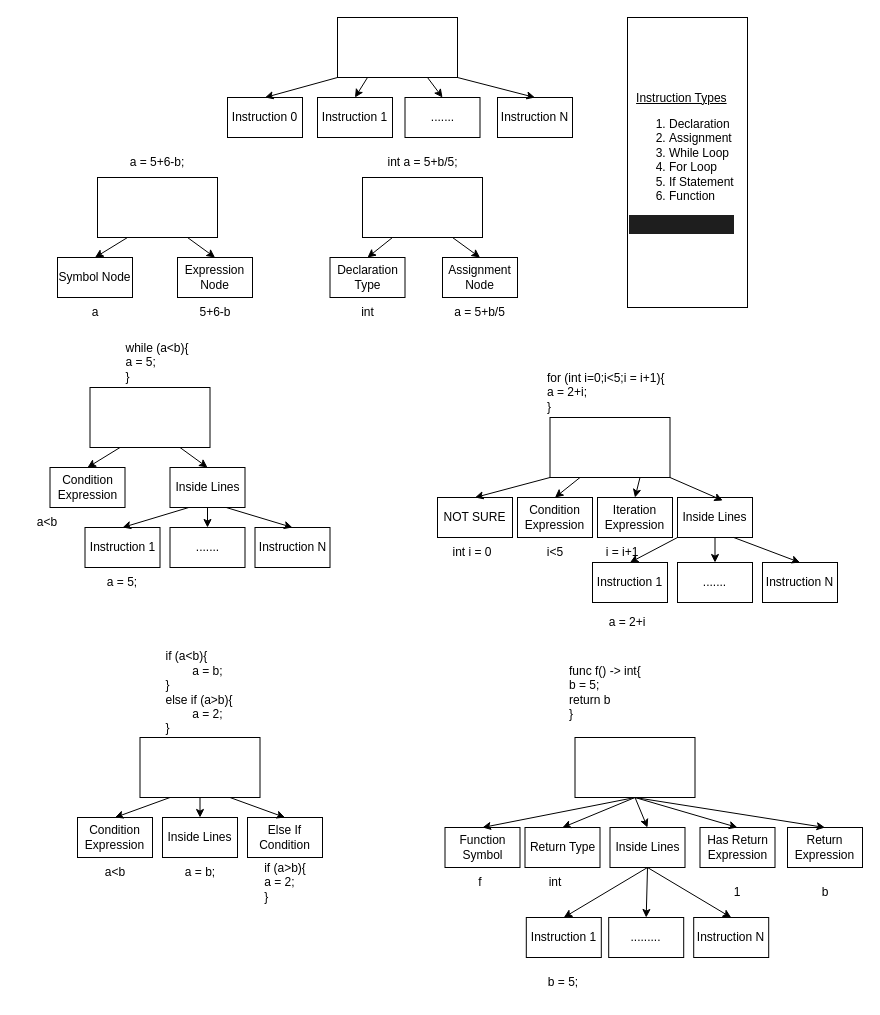
This 880x1015 diagram has some shape labels left out. The box of each missing label's shape, as (x1, y1, x2, y2) in pixels:
Assignment: (96, 176, 218, 238)
AST Root: (336, 16, 458, 78)
Declaration: (362, 176, 482, 238)
For Loop (STILL WORKING): (549, 416, 670, 478)
Function: (574, 736, 695, 798)
If Statement: (139, 736, 260, 798)
While Loop: (89, 386, 210, 448)
